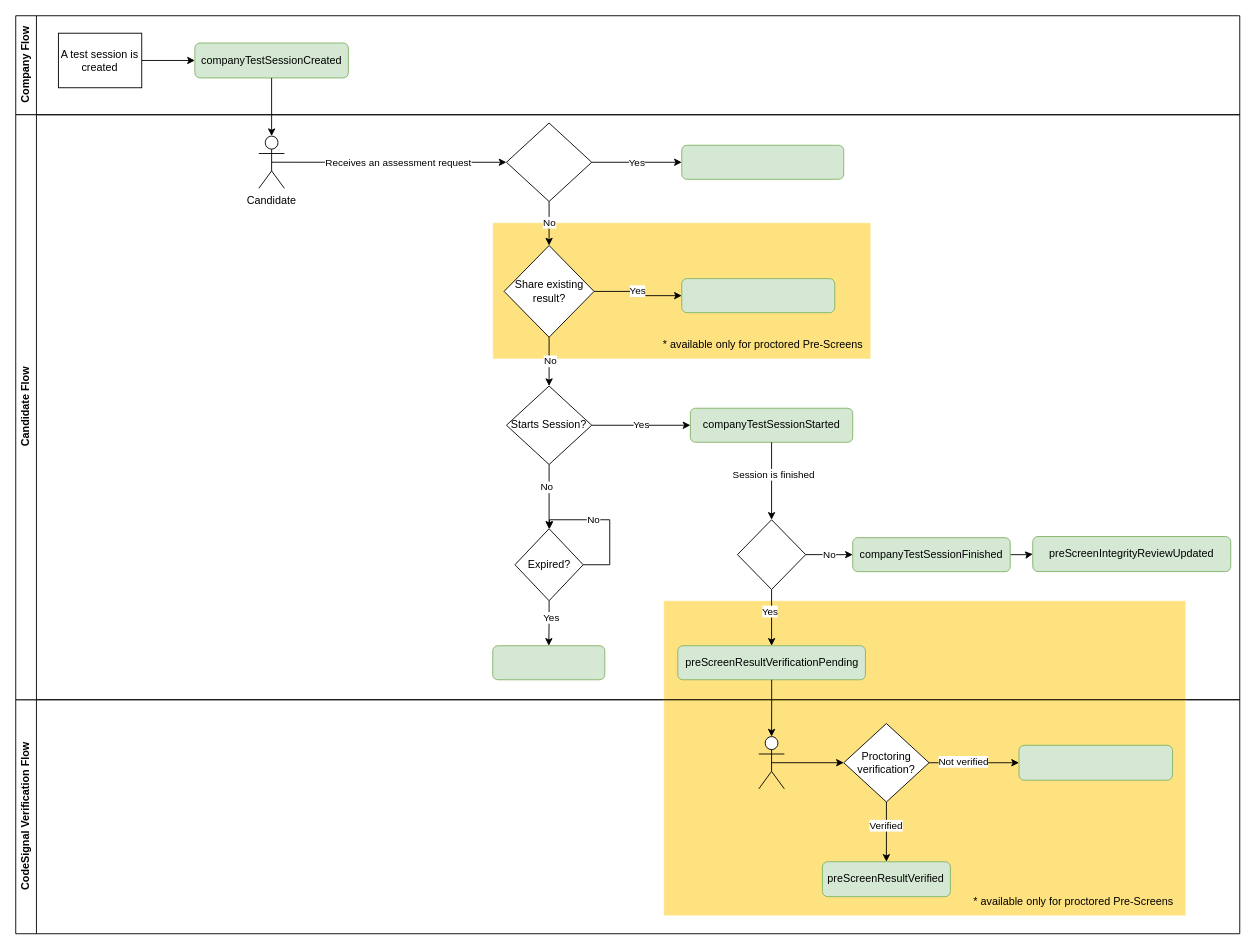
This 1256x950 diagram has some shape labels left out. Here are the shapes that lost their labels. From the top down, the centre of each, then its label:
[549,162]: Declines the request?
[762,161]: preScreenCandidateDeclined
[758,295]: preScreenResultShared
[771,554]: Proctored?
[548,662]: preScreenExpired
[771,762]: Codesignal Auditor
[1095,762]: preScreenResultNotVerfiied
